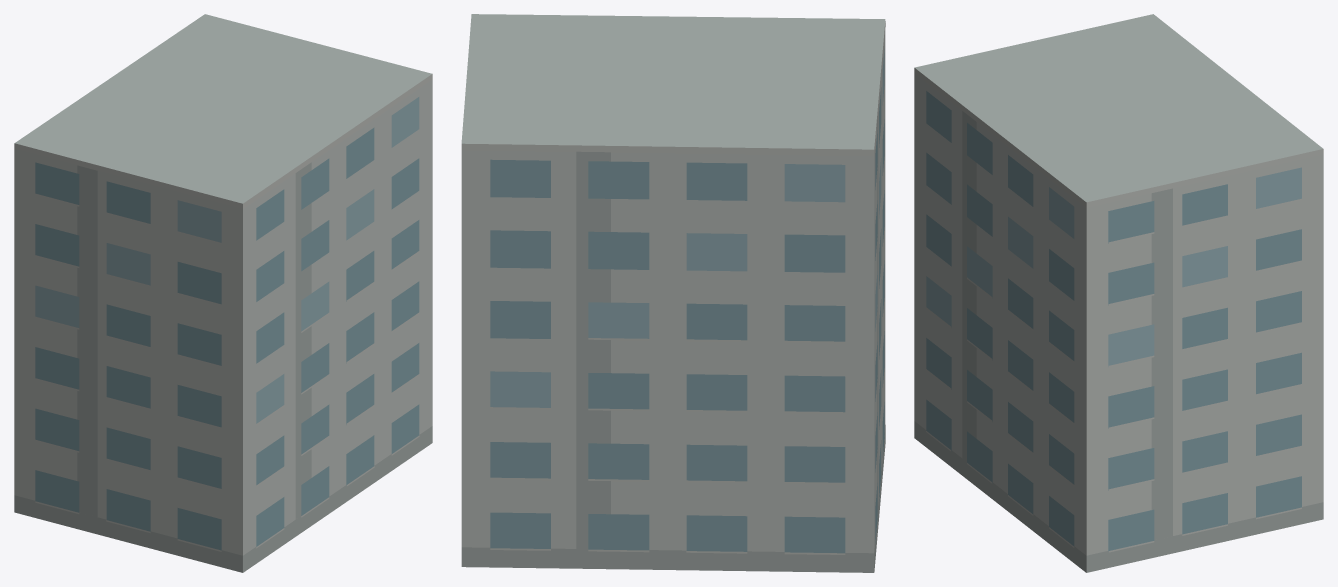
The model's file is survey-upis-33001589.glb.
3 views of the same model, side by side, from view 1: azimuth 30°, elevation 25°; view 2: azimuth 150°, elevation 25°; view 3: azimuth 270°, elevation 25° (orthographic). The views are drawn at different scales.
Parts seen in each view (by area): view 1: survey-upis-33001589.tmp; view 2: survey-upis-33001589.tmp; view 3: survey-upis-33001589.tmp.
Boxes of the visible parts, x1=… form: survey-upis-33001589.tmp: x1=14, y1=14, x2=432, y2=572; survey-upis-33001589.tmp: x1=461, y1=14, x2=885, y2=572; survey-upis-33001589.tmp: x1=914, y1=14, x2=1323, y2=572.
Bounding box in the file's own units: 17.67 × 16.2 × 16.22.
